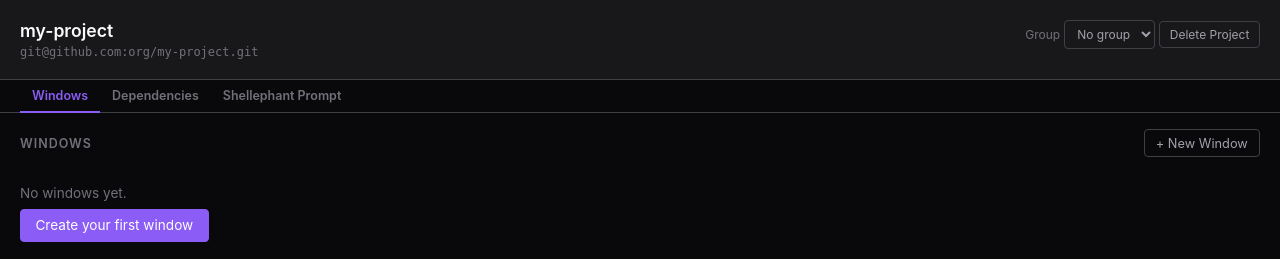
Test case: ProjectView › dependencies tab › lists saved dependencies when tab is active
This screenshot has width=1280, height=259.
Click the button "Dependencies": (155, 96) [100,80,211,113]
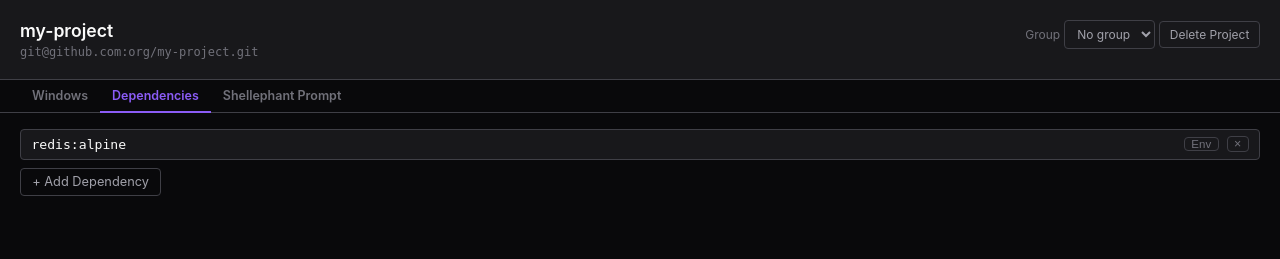
Check: the text "redis:alpine" is shown, box [31,137,126,152]
